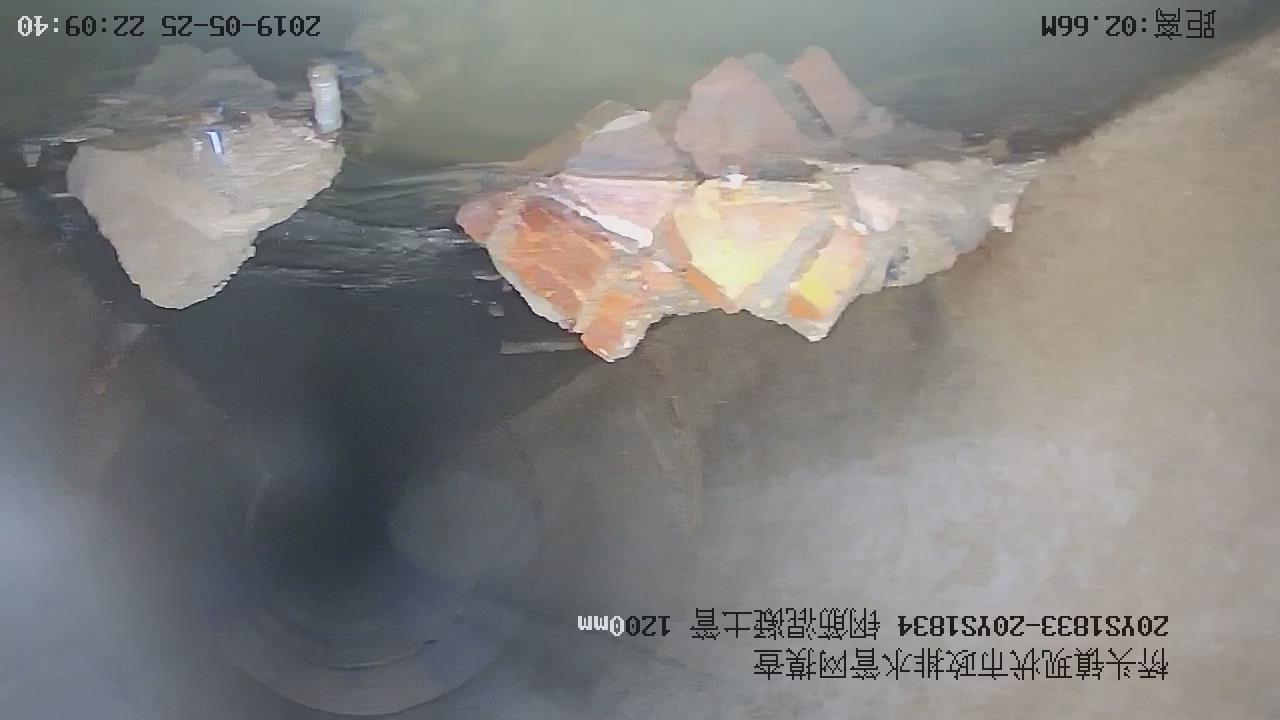ZAW: (457, 160, 1033, 361), (68, 116, 344, 309)
